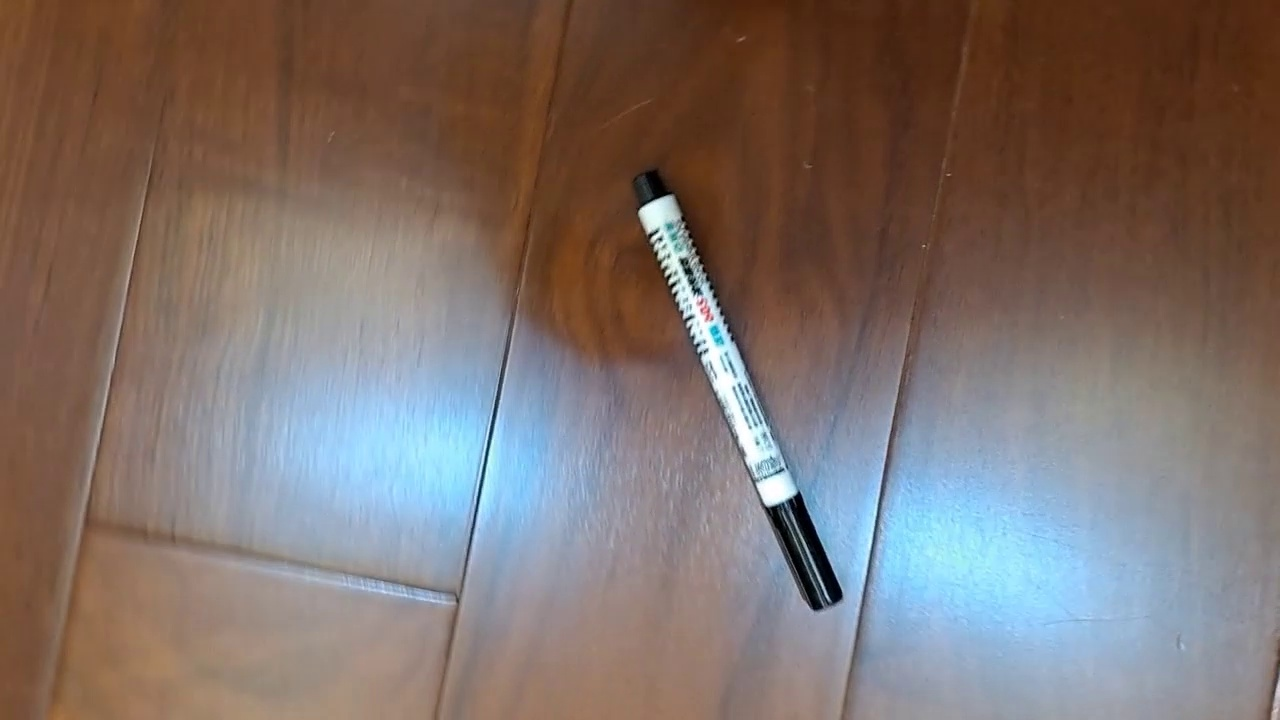pen: (630, 168, 844, 614)
